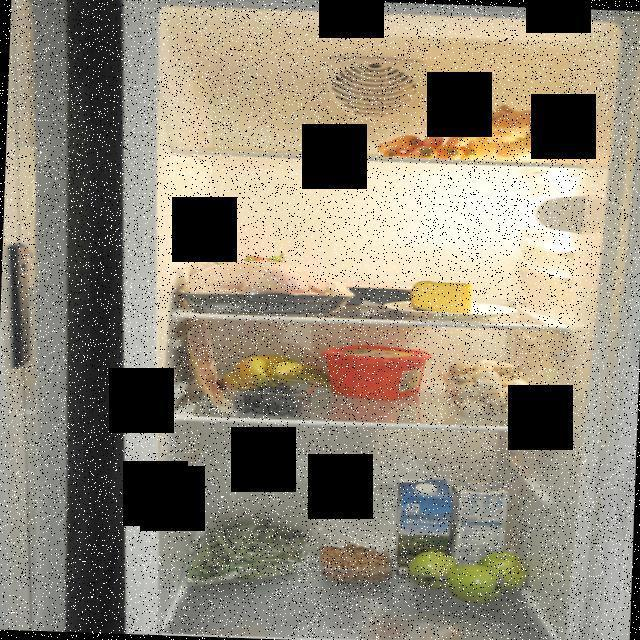apple: (404, 546, 531, 606)
banana: (218, 348, 338, 396)
beans: (187, 516, 316, 590)
blueberry: (230, 380, 317, 418)
butter: (318, 339, 433, 403)
carrot: (374, 126, 482, 162)
cheese: (408, 278, 478, 318)
chicken breast: (181, 256, 359, 318)
ham: (184, 318, 226, 413)
milk: (389, 476, 456, 578), (454, 480, 513, 583)
mushroom: (432, 358, 540, 422)
onion: (468, 101, 558, 162)
shrimp: (320, 538, 392, 582)
